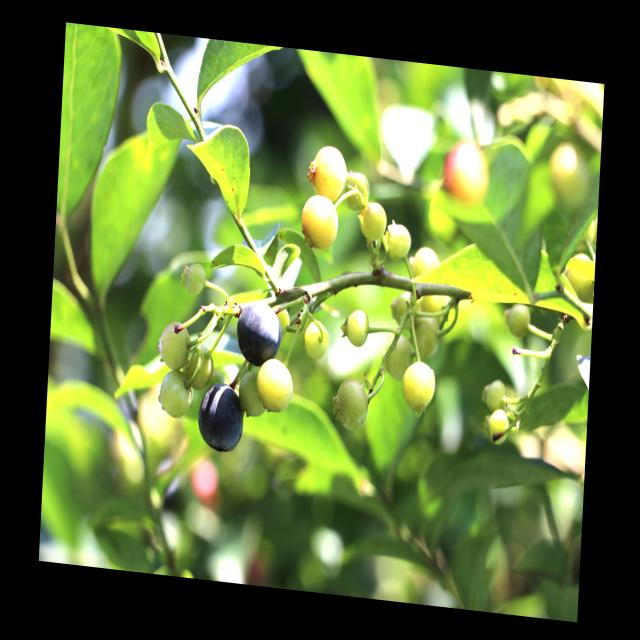blueberry: (196, 377, 248, 453), (234, 296, 285, 369)
blueberry-halfripe: (440, 137, 491, 203)
blueberry-unripe: (335, 370, 372, 434), (309, 142, 348, 200), (299, 194, 337, 252), (256, 354, 292, 415), (400, 362, 437, 416), (154, 317, 190, 370), (159, 367, 193, 421), (560, 251, 595, 300), (384, 334, 418, 384), (412, 313, 442, 364), (382, 217, 414, 264), (302, 314, 332, 364), (482, 403, 514, 448), (356, 200, 389, 242), (408, 242, 441, 284), (341, 306, 371, 352), (504, 299, 534, 343), (184, 344, 212, 386), (484, 378, 509, 410)
